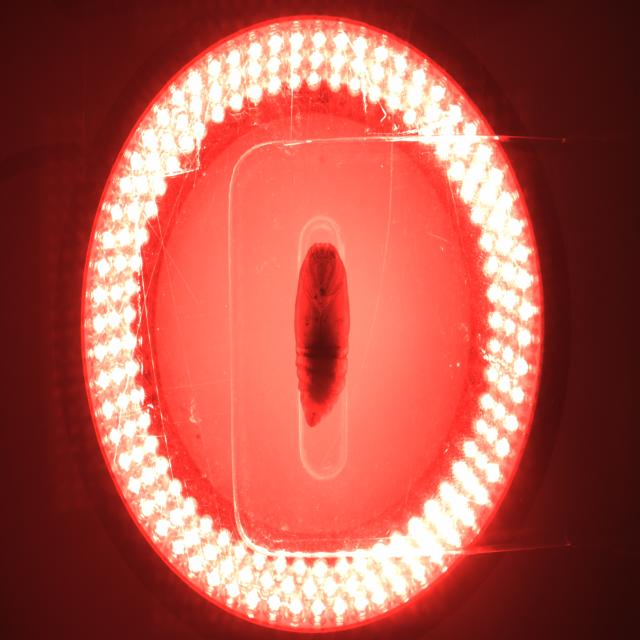female: (308, 407, 318, 427)
